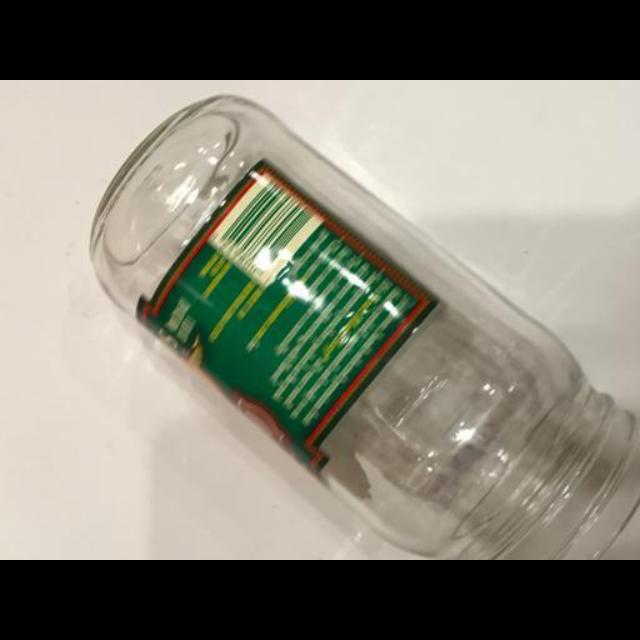garrafa de vidro: (92, 95, 640, 560)
